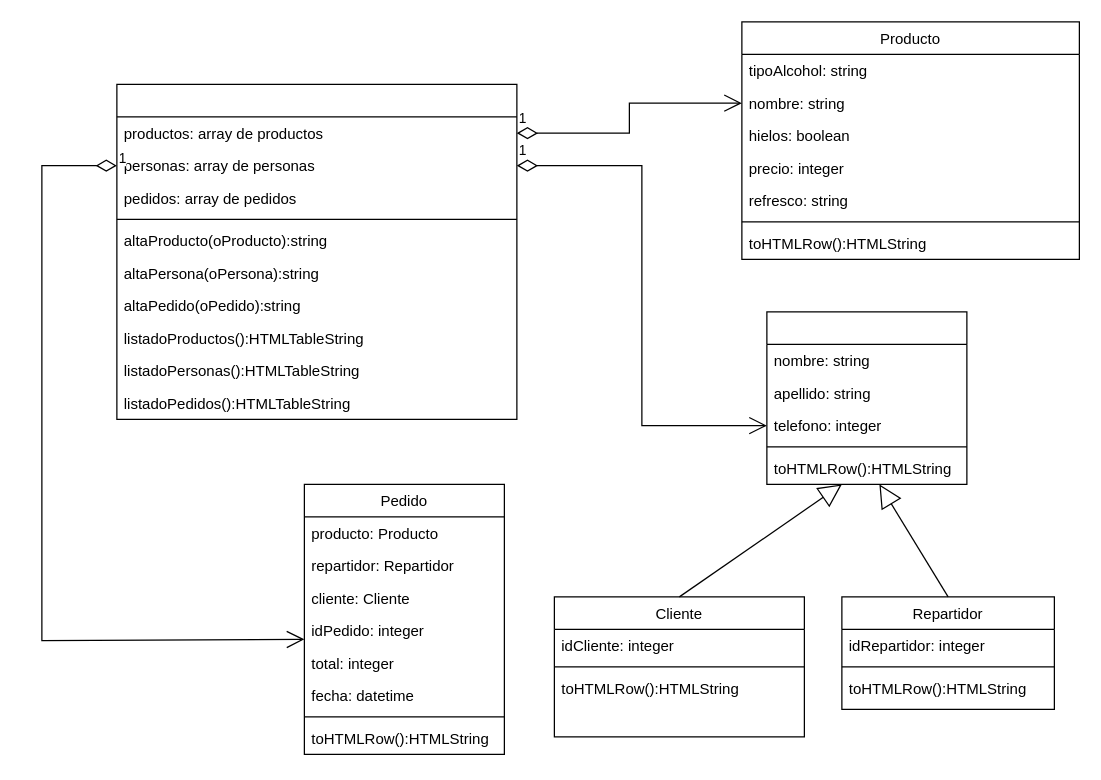
The diagram is 1101 pixels wide and 780 high, and some of its shapes have lost their labels. Here are the shapes that lost their labels. From the top down, the box of each, then its label:
(116, 83, 517, 419): UPOLOTE
(766, 311, 967, 484): Persona
